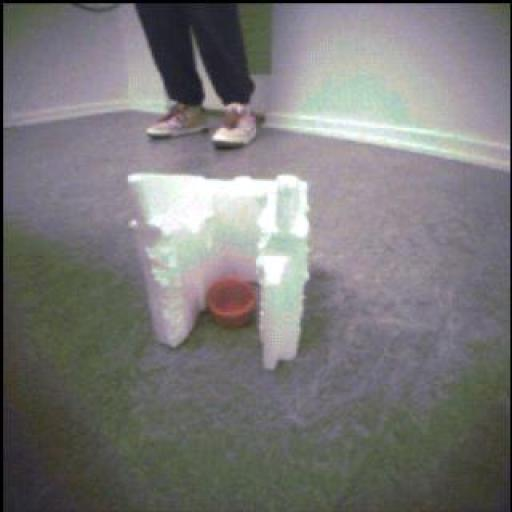Bucket: (198, 276, 258, 326)
